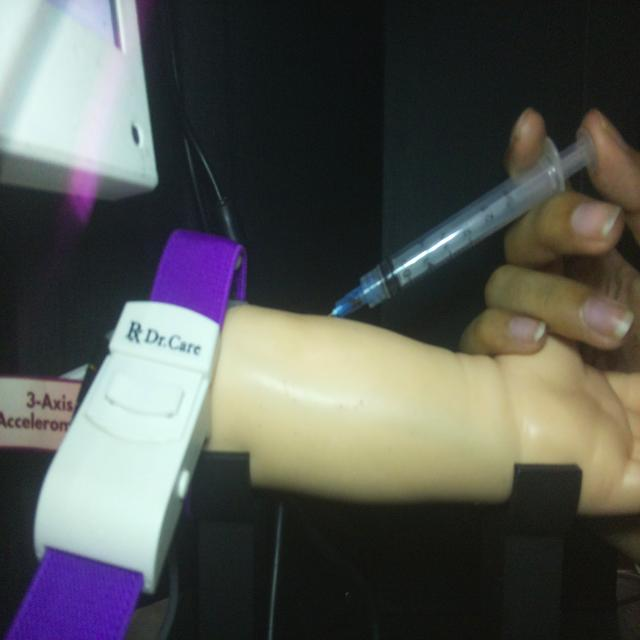25 degrees: (326, 124, 599, 320)
